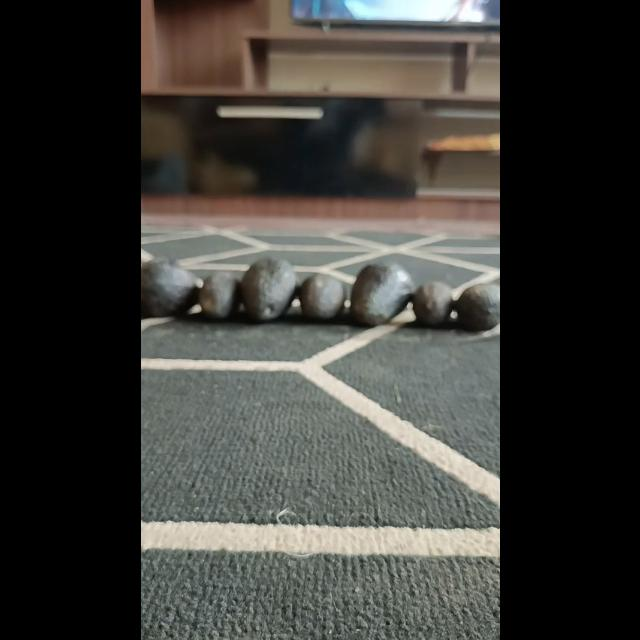Primera: (350, 262, 414, 326), (239, 255, 295, 321), (140, 258, 198, 316)
Segunda: (299, 272, 345, 320), (453, 282, 497, 332), (199, 270, 241, 320)
Tercera: (412, 280, 454, 326)
